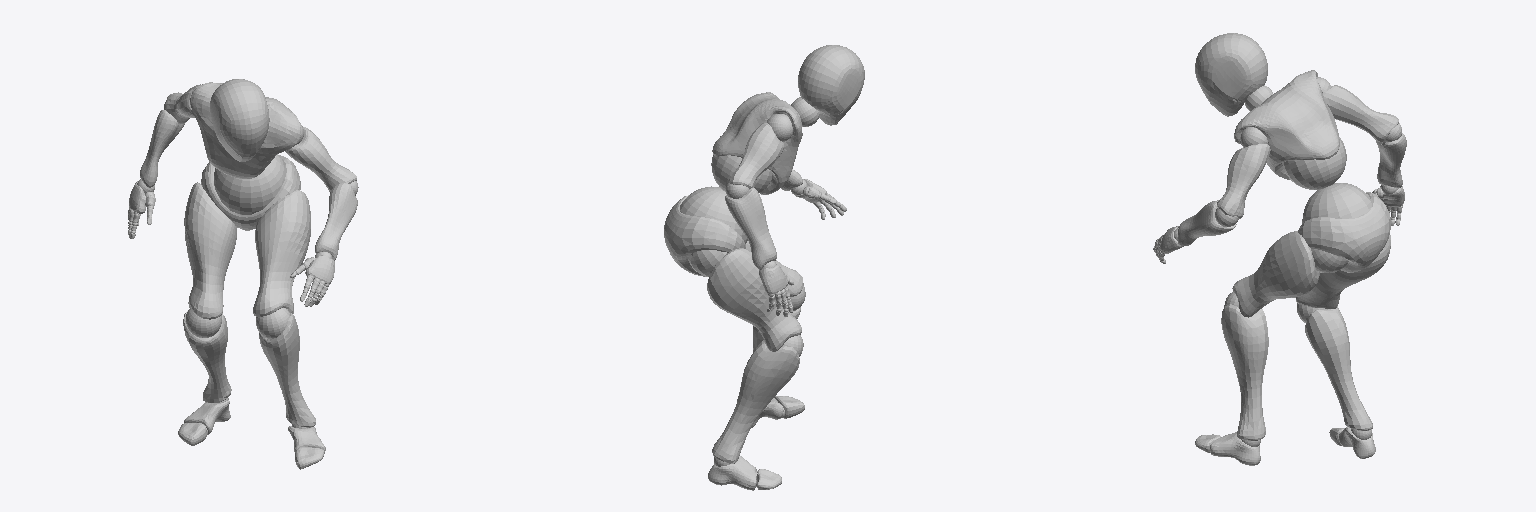
3 renders of one model, left to right at view 1: azimuth 30°, elevation 25°; view 2: azimuth 150°, elevation 25°; view 3: azimuth 270°, elevation 25°, orthographic.
Parts seen in each view (by area): view 1: Beta_Surface, Beta_Joints; view 2: Beta_Surface, Beta_Joints; view 3: Beta_Surface, Beta_Joints.
Boxes of the visible parts, box(x1,y1,x2,y2) form: Beta_Surface: box(128, 79, 357, 469); Beta_Joints: box(128, 102, 358, 434); Beta_Surface: box(664, 45, 864, 490); Beta_Joints: box(680, 97, 842, 486); Beta_Surface: box(1153, 33, 1406, 465); Beta_Joints: box(1154, 77, 1403, 446).
Bounding box in the file's own units: 0.5782 × 1.48 × 0.8461.